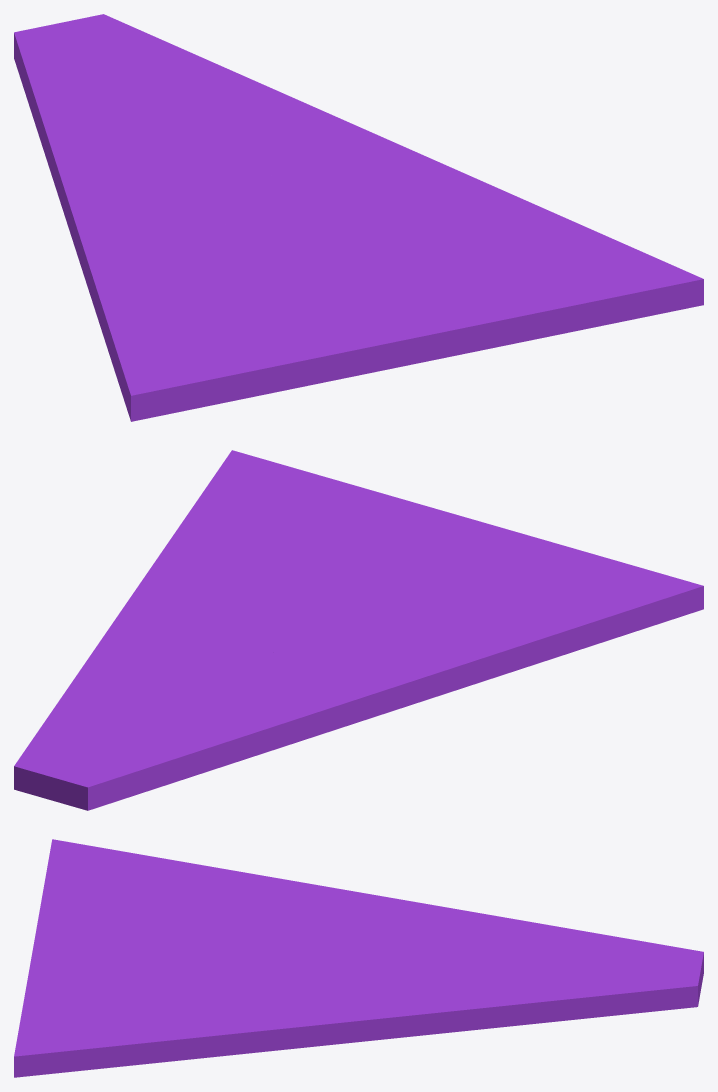
Rendered from StairsStep_2_chunks.fbx.
3 views of the same model, one above another, from view 1: azimuth 30°, elevation 25°; view 2: azimuth 150°, elevation 25°; view 3: azimuth 270°, elevation 25° (orthographic). The views are drawn at different scales.
Visible parts, largest first — view 1: StairsStep_2_0, StairsStep_2_1, StairsStep_2_2, StairsStep_2_3; view 2: StairsStep_2_0, StairsStep_2_1, StairsStep_2_2, StairsStep_2_3; view 3: StairsStep_2_0, StairsStep_2_2, StairsStep_2_1, StairsStep_2_3.
Part boxes in pixels (x1,y1,x2,y2): StairsStep_2_0: (191,149,703,409); StairsStep_2_1: (41,119,226,421); StairsStep_2_2: (14,14,409,175); StairsStep_2_3: (217,175,273,236); StairsStep_2_0: (125,450,651,637); StairsStep_2_1: (231,571,703,763); StairsStep_2_2: (14,605,258,810); StairsStep_2_3: (234,625,367,656); StairsStep_2_0: (14,863,360,1077); StairsStep_2_2: (349,925,703,1042); StairsStep_2_1: (48,839,547,954); StairsStep_2_3: (278,932,383,970).
Size of the model in its own units: 396 by 17.94 by 531.
